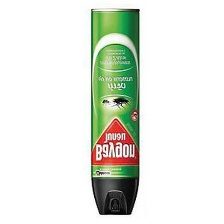aerosol_cans: (87, 6, 143, 218)
